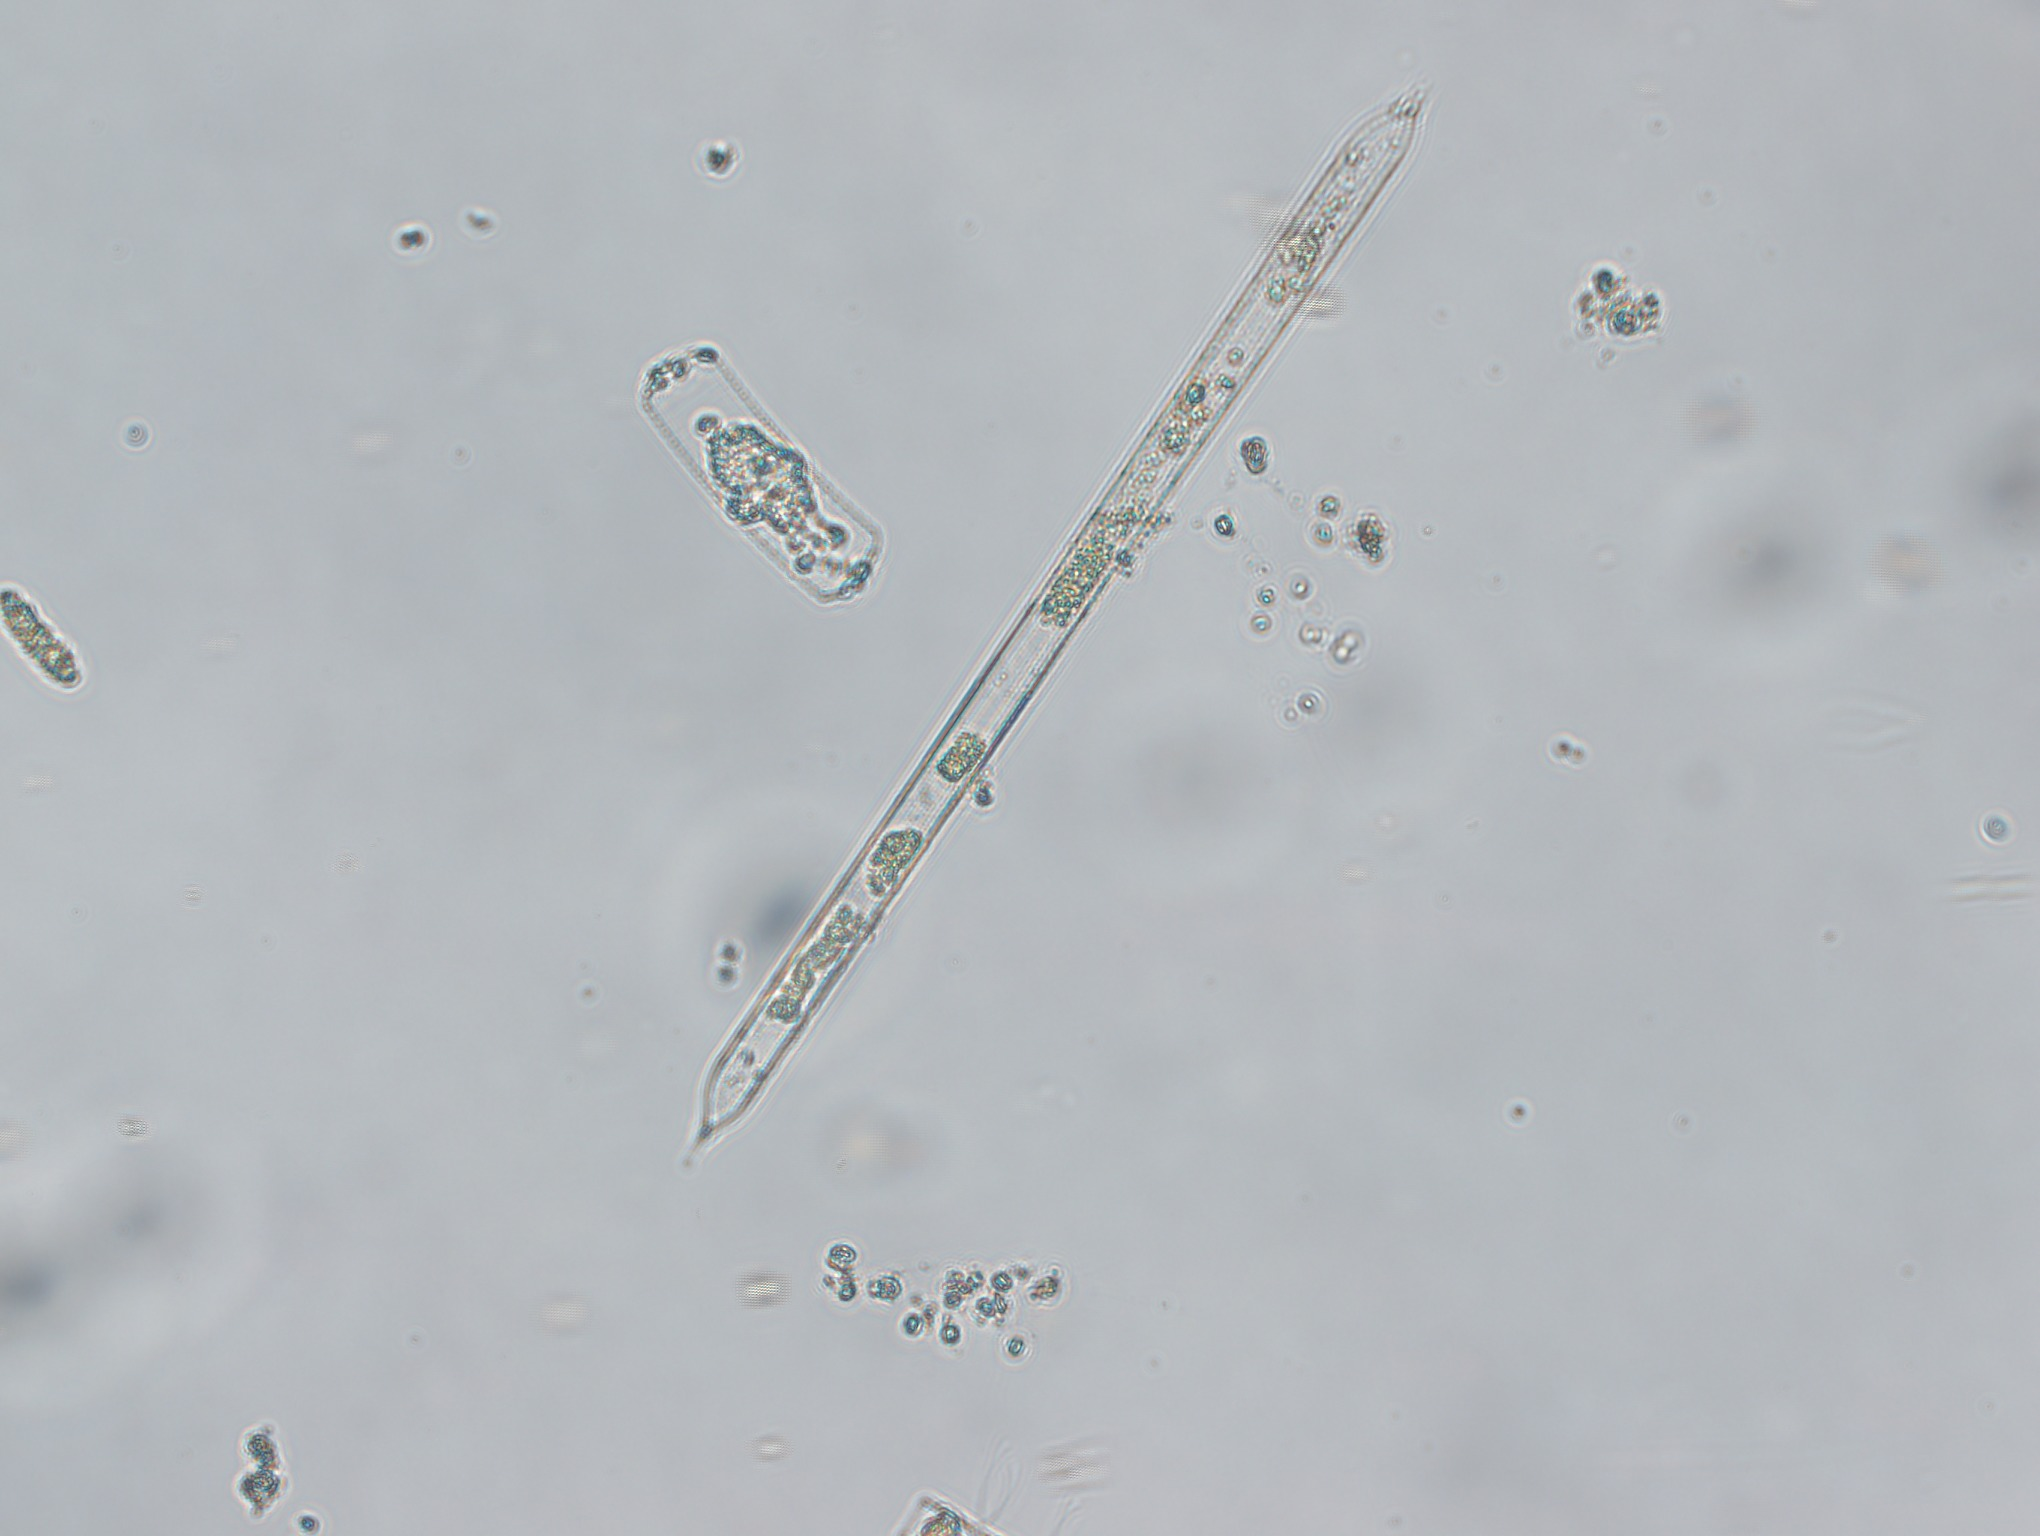rhizosolenia: (635, 79, 1471, 1176)
